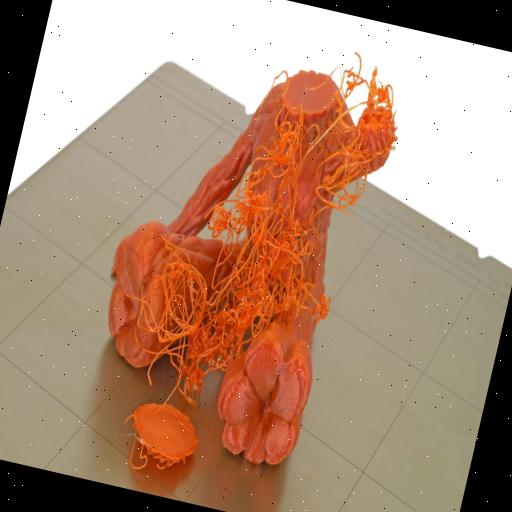spaghetti: (128, 19, 419, 438)
